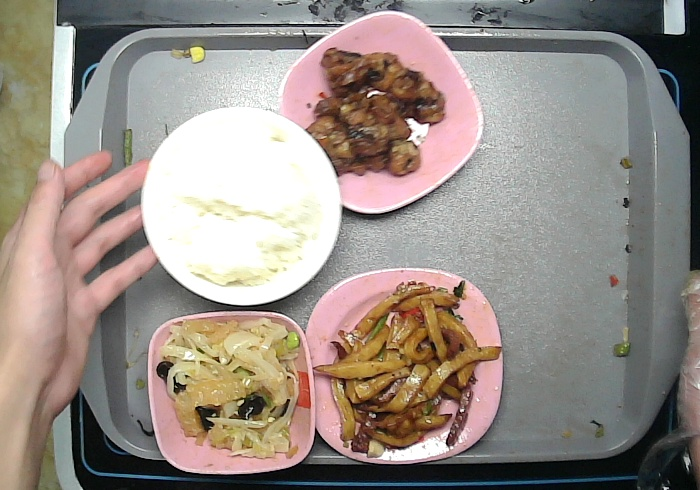SHKJ-Fan_Wan: (141, 106, 343, 307)
SHKJ-Fen_Se_Cai_Die: (278, 10, 483, 217)
SHKJ-Fen_Se_Si_Fang_Cai_Die: (304, 268, 505, 465)
SHKJ-Fen_Se_Xiao_Fang_Die: (146, 311, 318, 478)
